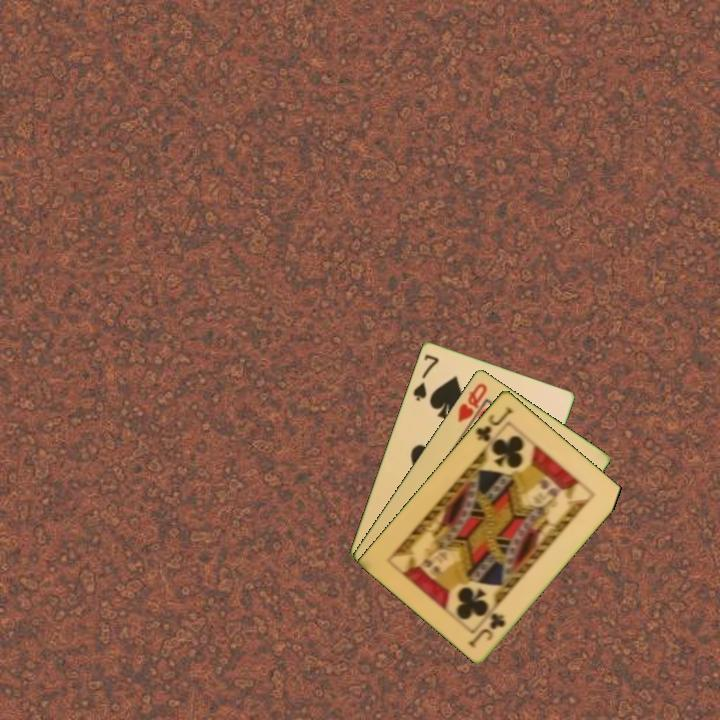7s: (409, 350, 442, 403)
Jc: (472, 403, 515, 445), (465, 609, 508, 651)
Qh: (454, 379, 490, 425)
